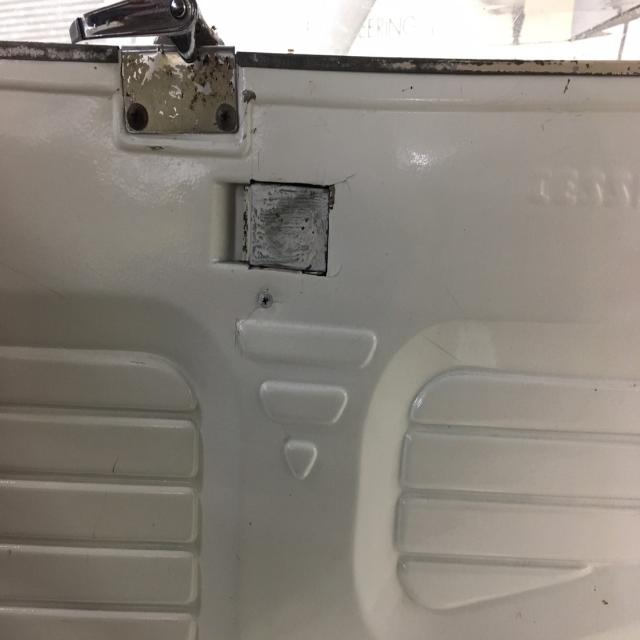Rupture: (191, 155, 369, 290)
